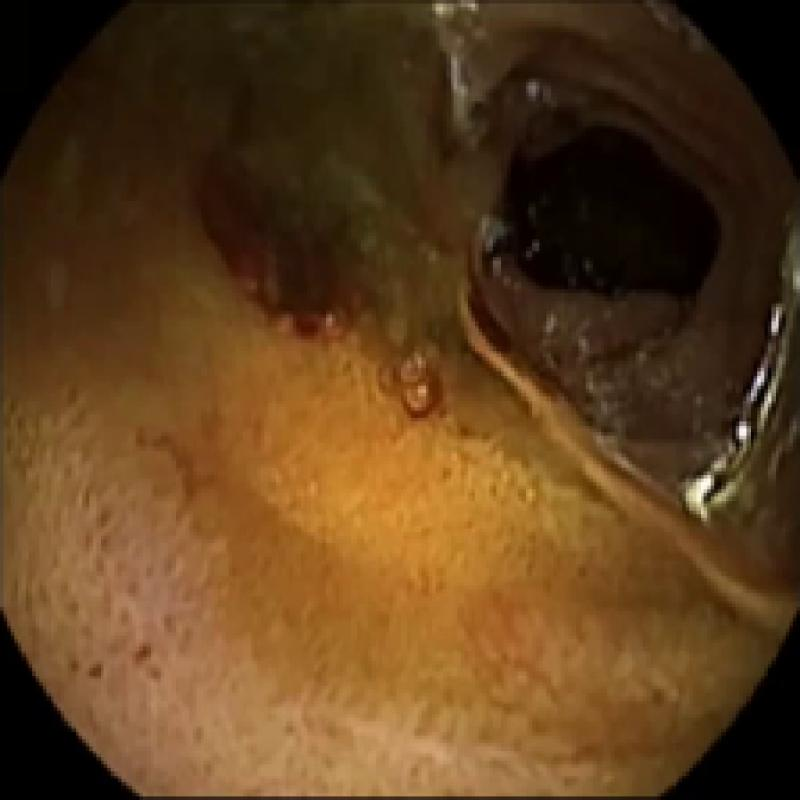bleeding: (468, 125, 721, 354), (191, 149, 375, 337)
